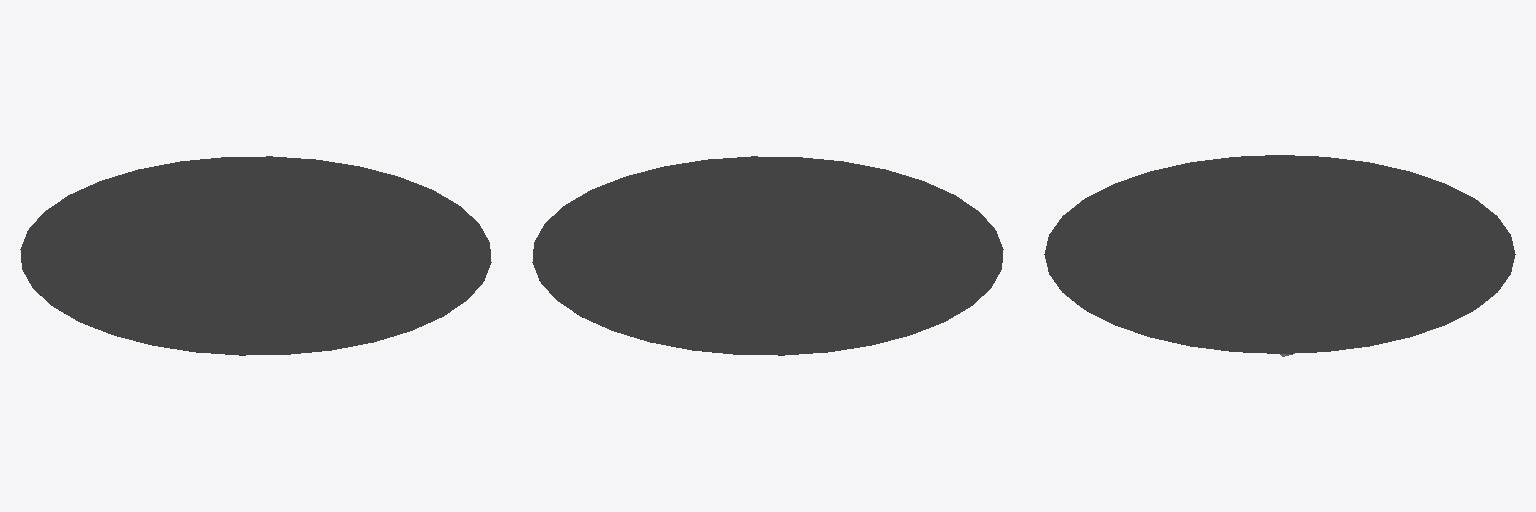
The robot description file, URDF, robot "inmoov_hand":
<?xml version="1.0" ?>
<!-- =================================================================================== -->
<!-- |    This document was autogenerated by xacro from inmoov_face.urdf.xacro         | -->
<!-- |    EDITING THIS FILE BY HAND IS NOT RECOMMENDED                                 | -->
<!-- =================================================================================== -->
<robot name="inmoov_hand" xmlns:xacro="http://ros.org/wiki/xacro">
  <link name="base_link">
    <visual>
      <geometry>
        <cylinder length="0.0001" radius="0.26"/>
      </geometry>
      <origin rpy="0 0 0" xyz="0 0 0.055"/>
      <material name="invisible">
        <color rgba="0.3 0.3 0.3 0"/>
      </material>
    </visual>
  </link>
  <link name="face">
    <visual>
      <geometry>
        <mesh filename="package://inmoov_description/meshes/face.stl" scale="0.001 0.001 0.001"/>
      </geometry>
      <origin rpy="0 0 0" xyz="0 0 0"/>
      <material name="ccover">
        <color rgba="0.6 0.6 0.6 1"/>
      </material>
    </visual>
  </link>
  <joint name="eyes_updown" type="revolute">
    <axis xyz="1 0 0"/>
    <limit effort="1000.0" lower="-1.57" upper="1.57" velocity="0.5"/>
    <origin rpy="0 0 0" xyz="0 0 0"/>
    <parent link="face"/>
    <child link="eyesupport"/>
  </joint>
  <link name="eyesupport">
    <visual>
      <geometry>
        <mesh filename="package://inmoov_description/meshes/eyesupport.stl" scale="0.001 0.001 0.001"/>
      </geometry>
      <origin rpy="0 0 0" xyz="0 0 0"/>
      <material name="cframe">
        <color rgba="0.25 0.25 0.25 1"/>
      </material>
    </visual>
  </link>
  <link name="right_eyesupport">
    <visual>
      <geometry>
        <mesh filename="package://inmoov_description/meshes/right_eyesupport.stl" scale="0.001 0.001 0.001"/>
      </geometry>
      <origin rpy="0 0 0" xyz="0 0 0"/>
      <material name="cframe">
        <color rgba="0.25 0.25 0.25 1"/>
      </material>
    </visual>
  </link>
  <link name="right_camera">
    <visual>
      <geometry>
        <mesh filename="package://inmoov_description/meshes/camera.stl" scale="0.001 0.001 0.001"/>
      </geometry>
      <origin rpy="0 0 0" xyz="0 0 0"/>
      <material name="ccamera">
        <color rgba="0.1 0.1 0.1 1"/>
      </material>
    </visual>
  </link>
  <link name="right_eye">
    <visual>
      <geometry>
        <mesh filename="package://inmoov_description/meshes/eye.stl" scale="0.001 0.001 0.001"/>
      </geometry>
      <origin rpy="0 0 0" xyz="0 0 0"/>
      <material name="ceyeball">
        <color rgba="0.7 0.7 0.7 1"/>
      </material>
    </visual>
  </link>
  <link name="right_iris">
    <visual>
      <geometry>
        <mesh filename="package://inmoov_description/meshes/iris.stl" scale="0.001 0.001 0.001"/>
      </geometry>
      <origin rpy="0 0 0" xyz="0 0 0"/>
      <material name="ciris">
        <color rgba="0.25 0.41 0.88 1"/>
      </material>
    </visual>
  </link>
  <joint name="right_camera" type="fixed">
    <origin rpy="0 0 0" xyz="0 -0.001 0"/>
    <parent link="right_eyesupport"/>
    <child link="right_camera"/>
  </joint>
  <joint name="right_eye" type="fixed">
    <origin rpy="0 0 0" xyz="0 0.003 0"/>
    <parent link="right_eyesupport"/>
    <child link="right_eye"/>
  </joint>
  <joint name="right_iris" type="fixed">
    <origin rpy="0 0 0" xyz="0 0.0061 0"/>
    <parent link="right_eyesupport"/>
    <child link="right_iris"/>
  </joint>
  <joint name="right_eye_leftright" type="revolute">
    <axis xyz="0 0 1"/>
    <limit effort="1000.0" lower="-1.57" upper="1.57" velocity="0.5"/>
    <origin rpy="0 0 0" xyz="0.033 0 -0.0036"/>
    <parent link="eyesupport"/>
    <child link="right_eyesupport"/>
  </joint>
  <link name="left_eyesupport">
    <visual>
      <geometry>
        <mesh filename="package://inmoov_description/meshes/left_eyesupport.stl" scale="0.001 0.001 0.001"/>
      </geometry>
      <origin rpy="0 0 0" xyz="0 0 0"/>
      <material name="cframe">
        <color rgba="0.25 0.25 0.25 1"/>
      </material>
    </visual>
  </link>
  <link name="left_camera">
    <visual>
      <geometry>
        <mesh filename="package://inmoov_description/meshes/camera.stl" scale="0.001 0.001 0.001"/>
      </geometry>
      <origin rpy="0 0 0" xyz="0 0 0"/>
      <material name="ccamera">
        <color rgba="0.1 0.1 0.1 1"/>
      </material>
    </visual>
  </link>
  <link name="left_eye">
    <visual>
      <geometry>
        <mesh filename="package://inmoov_description/meshes/eye.stl" scale="0.001 0.001 0.001"/>
      </geometry>
      <origin rpy="0 0 0" xyz="0 0 0"/>
      <material name="ceyeball">
        <color rgba="0.7 0.7 0.7 1"/>
      </material>
    </visual>
  </link>
  <link name="left_iris">
    <visual>
      <geometry>
        <mesh filename="package://inmoov_description/meshes/iris.stl" scale="0.001 0.001 0.001"/>
      </geometry>
      <origin rpy="0 0 0" xyz="0 0 0"/>
      <material name="ciris">
        <color rgba="0.25 0.41 0.88 1"/>
      </material>
    </visual>
  </link>
  <joint name="left_camera" type="fixed">
    <origin rpy="0 0 0" xyz="0 -0.001 0"/>
    <parent link="left_eyesupport"/>
    <child link="left_camera"/>
  </joint>
  <joint name="left_eye" type="fixed">
    <origin rpy="0 0 0" xyz="0 0.003 0"/>
    <parent link="left_eyesupport"/>
    <child link="left_eye"/>
  </joint>
  <joint name="left_iris" type="fixed">
    <origin rpy="0 0 0" xyz="0 0.0061 0"/>
    <parent link="left_eyesupport"/>
    <child link="left_iris"/>
  </joint>
  <joint name="left_eye_leftright" type="revolute">
    <axis xyz="0 0 1"/>
    <limit effort="1000.0" lower="-1.57" upper="1.57" velocity="0.5"/>
    <origin rpy="0 0 0" xyz="-0.033 0 -0.0036"/>
    <parent link="eyesupport"/>
    <child link="left_eyesupport"/>
  </joint>
  <joint name="base_to_face" type="revolute">
    <axis xyz="0 0 1"/>
    <limit effort="1000.0" lower="-3.14" upper="0" velocity="0.5"/>
    <origin rpy="0 0 0" xyz="0 0 0"/>
    <parent link="base_link"/>
    <child link="face"/>
  </joint>
</robot>

--- Render facts (derived) ---
The picture shows the robot from 3 angles, left to right: view 1: azimuth 30°, elevation 25°; view 2: azimuth 150°, elevation 25°; view 3: azimuth 270°, elevation 25°; orthographic projection.
Robot: inmoov_hand — 11 links, 10 joints (4 revolute, 6 fixed); root link base_link; default pose: all joints at 0.
Links seen in each view (by area): view 1: base_link; view 2: base_link; view 3: base_link.
Boxes of the visible links, x1,y1,x2,y2 form: base_link: (20,156,491,355); base_link: (532,156,1003,355); base_link: (1044,155,1515,353).
Bounding box of the posed robot: 0.52 × 0.52 × 0.0995 m (x, y, z).
Meshes: 7 distinct files referenced, 10 mesh visuals loaded (7 binary STL).
